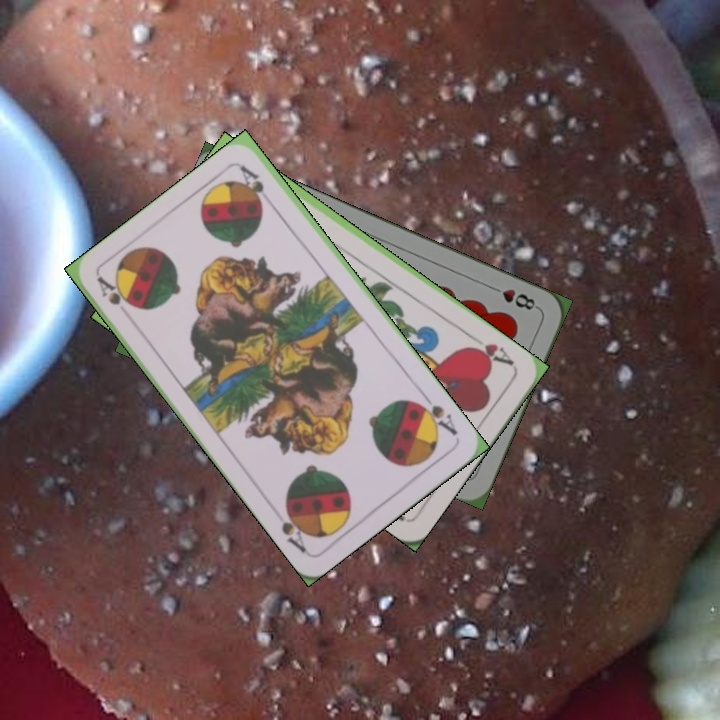H8: (485, 281, 541, 313)
HA: (462, 331, 517, 369)
SA: (411, 390, 460, 438), (93, 272, 137, 312)
